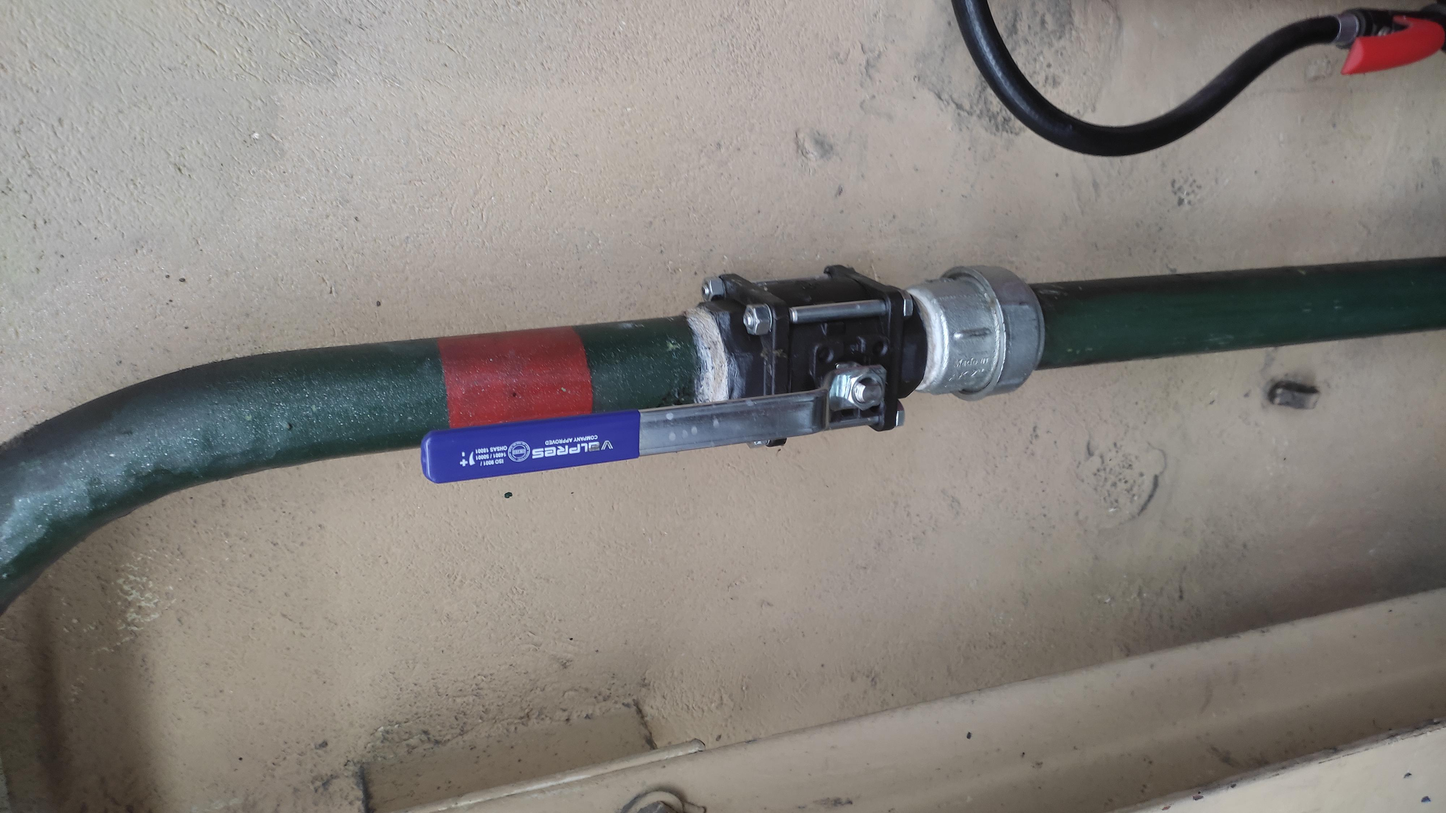opened valve: (411, 259, 934, 490)
